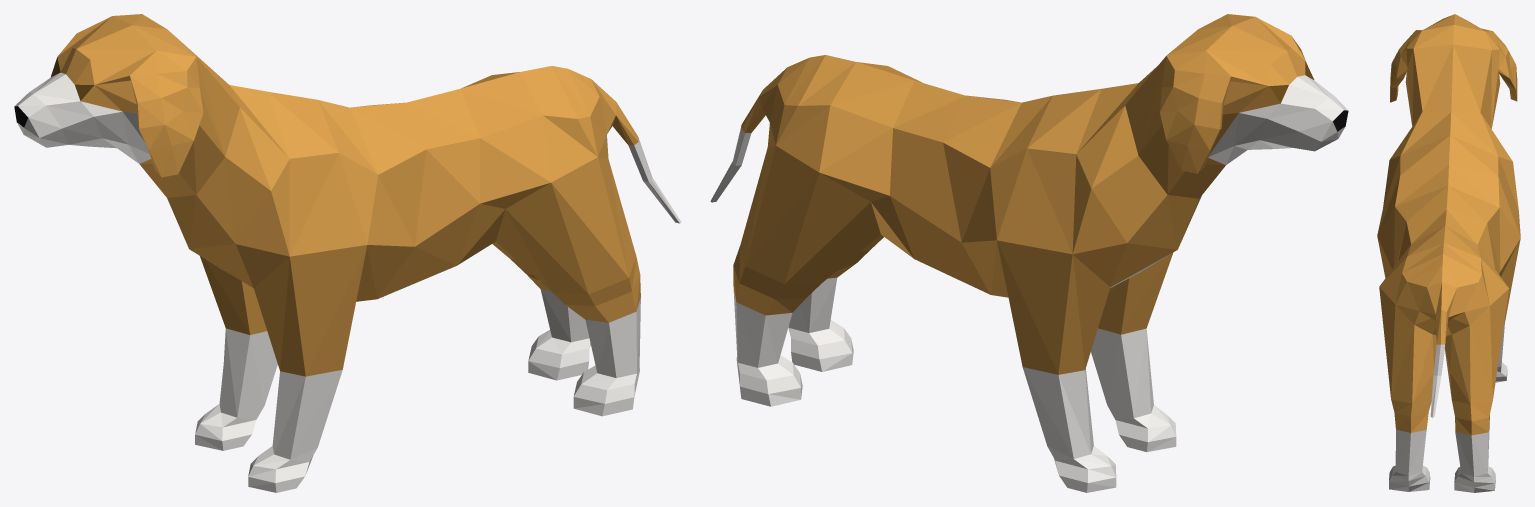
The model's file is f0b5c7e6-1bcb-42bf-8f48-eb0af2faef32.glb.
The picture shows the model from 3 angles, left to right: view 1: azimuth 30°, elevation 25°; view 2: azimuth 150°, elevation 25°; view 3: azimuth 270°, elevation 25°; orthographic projection. The views are drawn at different scales.
Visible parts, largest first — view 1: Dog; view 2: Dog; view 3: Dog.
Boxes of the visible parts, x1,y1,x2,y2 form: Dog: [14, 14, 681, 492]; Dog: [710, 14, 1348, 492]; Dog: [1377, 14, 1520, 492].
Bounding box in the file's own units: 32.14 × 21.89 × 9.07.
